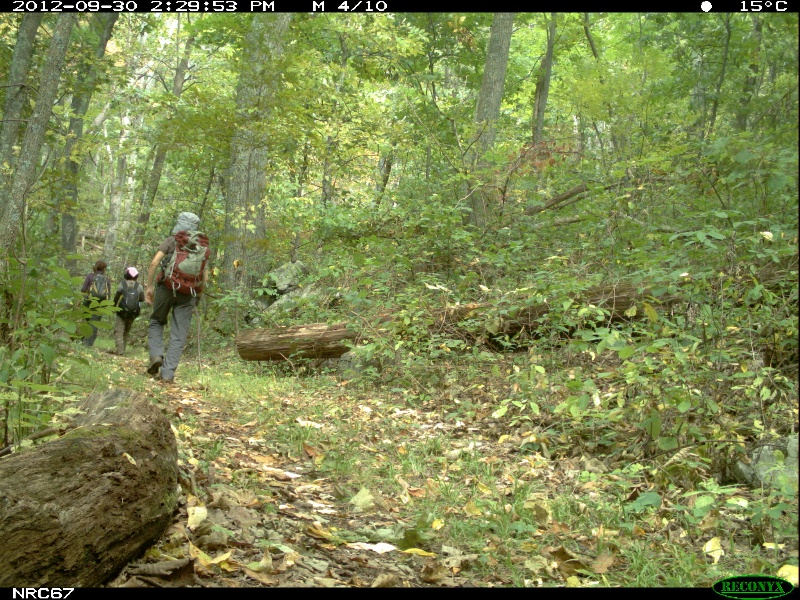human: (144, 208, 213, 383), (79, 260, 110, 353), (112, 266, 143, 359)
human legs: (145, 284, 197, 383), (78, 297, 103, 353), (112, 309, 139, 358)
